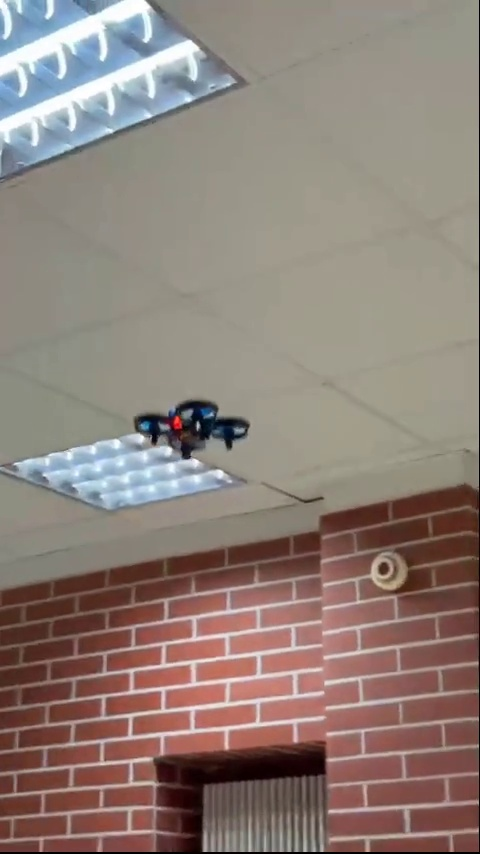drone: (130, 397, 249, 466)
